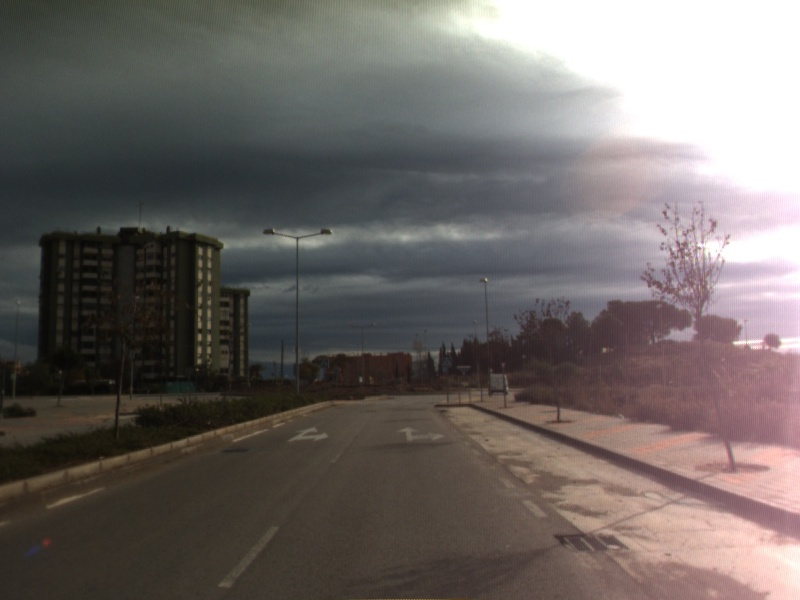STRAIGHT_RIGHT: (395, 424, 446, 443), (285, 425, 330, 444)
